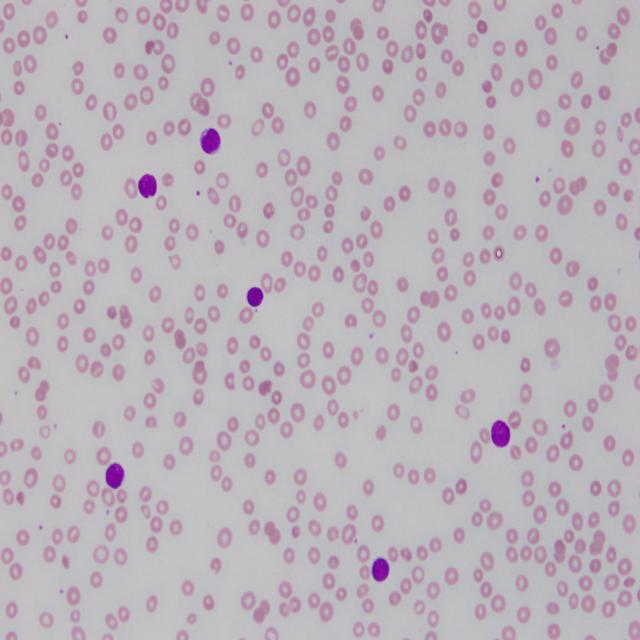cell: (200, 128, 221, 153), (491, 420, 510, 447), (105, 463, 125, 488), (371, 558, 389, 582), (139, 173, 156, 198), (246, 287, 264, 307)
